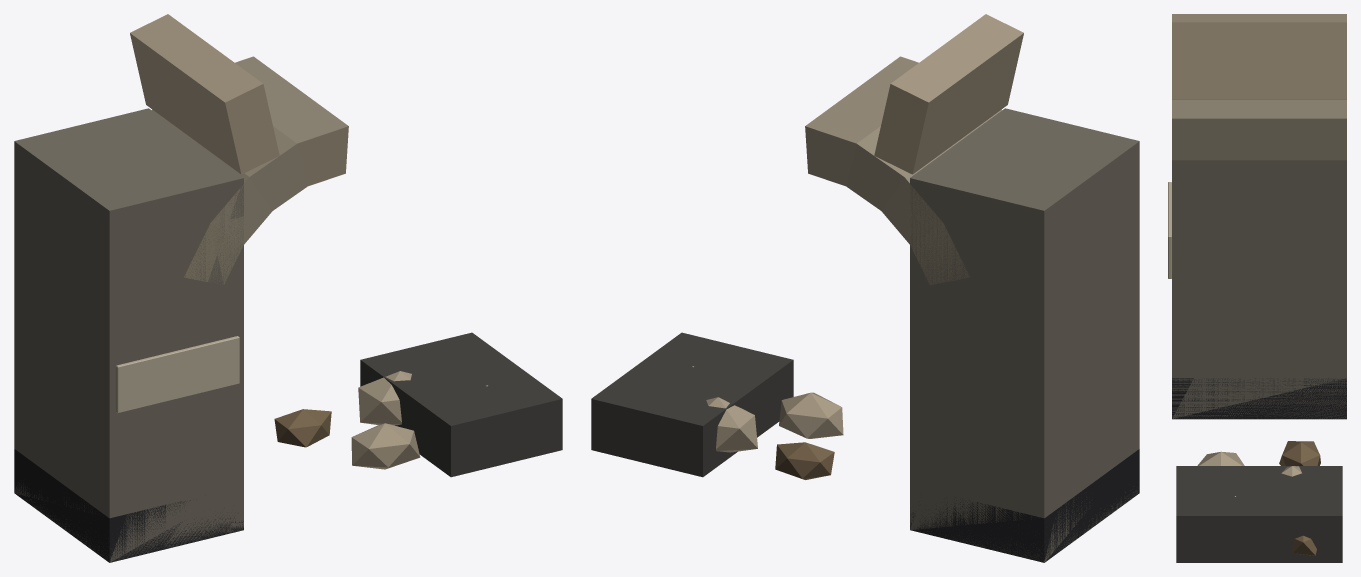
The picture shows the model from 3 angles, left to right: view 1: azimuth 30°, elevation 25°; view 2: azimuth 150°, elevation 25°; view 3: azimuth 270°, elevation 25°; orthographic projection. The views are drawn at different scales.
Parts seen in each view (by area): view 1: WK_Stone_A09_RuinArch_Collapsed4m_LOD1; view 2: WK_Stone_A09_RuinArch_Collapsed4m_LOD1; view 3: WK_Stone_A09_RuinArch_Collapsed4m_LOD1.
Boxes of the visible parts, box(x1,y1,x2,y2) form: WK_Stone_A09_RuinArch_Collapsed4m_LOD1: box(14, 14, 562, 562); WK_Stone_A09_RuinArch_Collapsed4m_LOD1: box(591, 14, 1139, 562); WK_Stone_A09_RuinArch_Collapsed4m_LOD1: box(1168, 14, 1346, 562).
Bounding box in the file's own units: 4.4 × 4 × 1.6.
